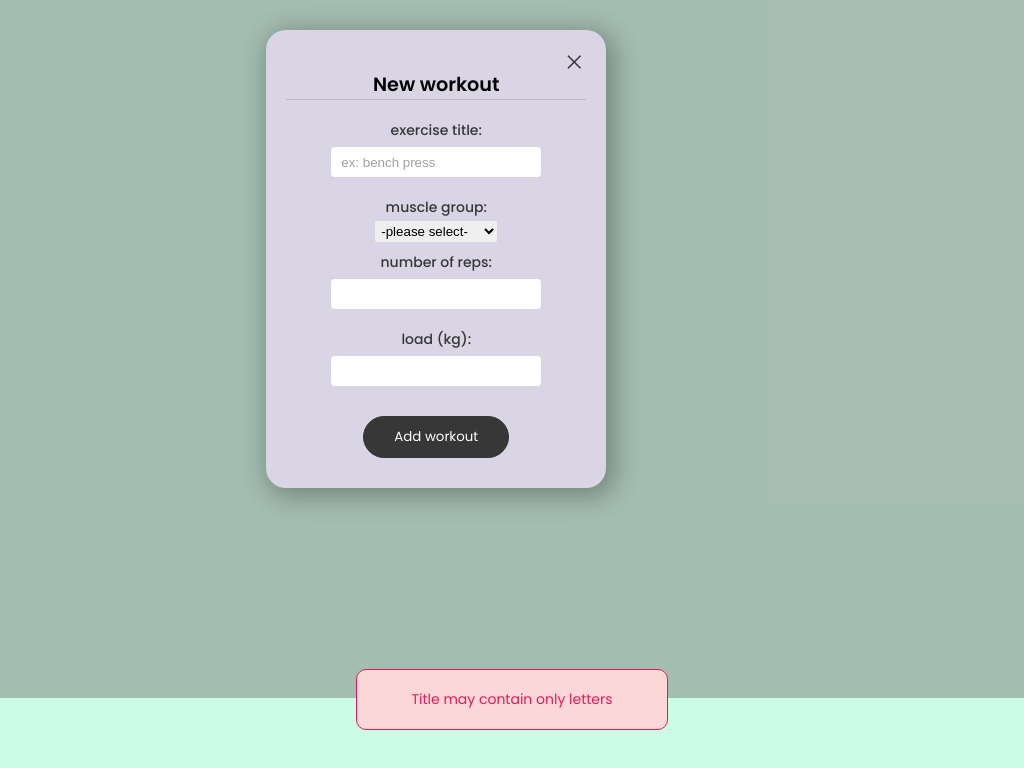
Test: <WorkoutForm/> › should signal input error if reps value is too large
Step 1. Type "arm curls" into the field with test id "title" → (436, 162), box [331,147,541,177]
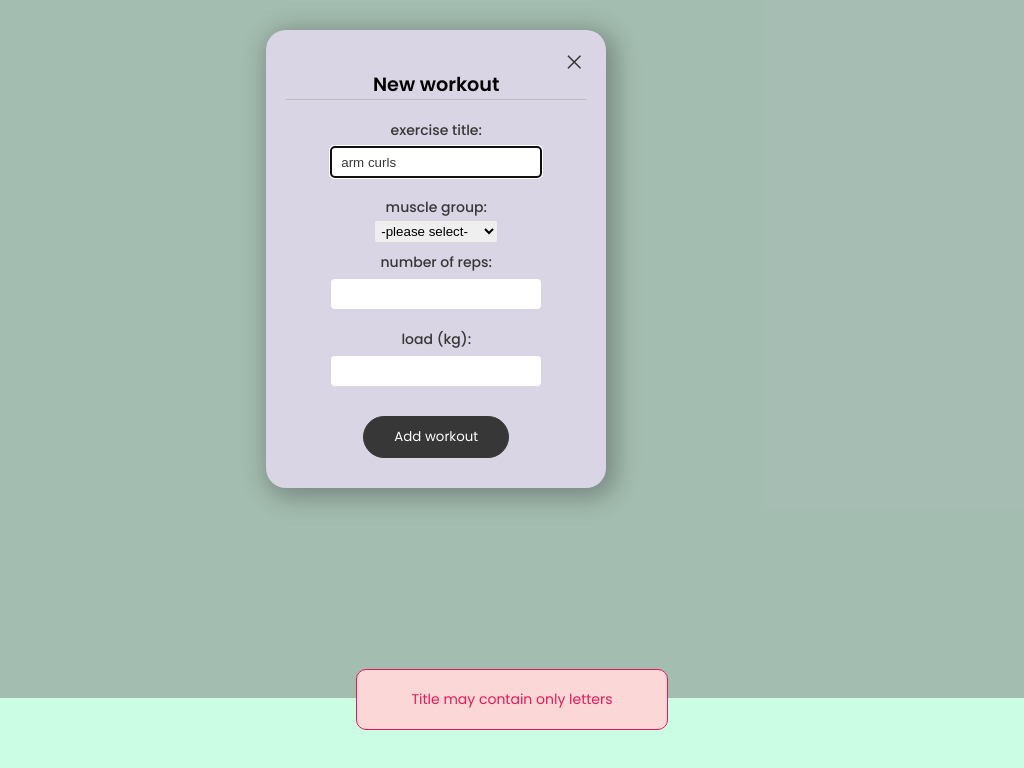
Step 2. Select "biceps" in the dropdown with test id "muscle_group" → (436, 232), box [375,221,497,242]
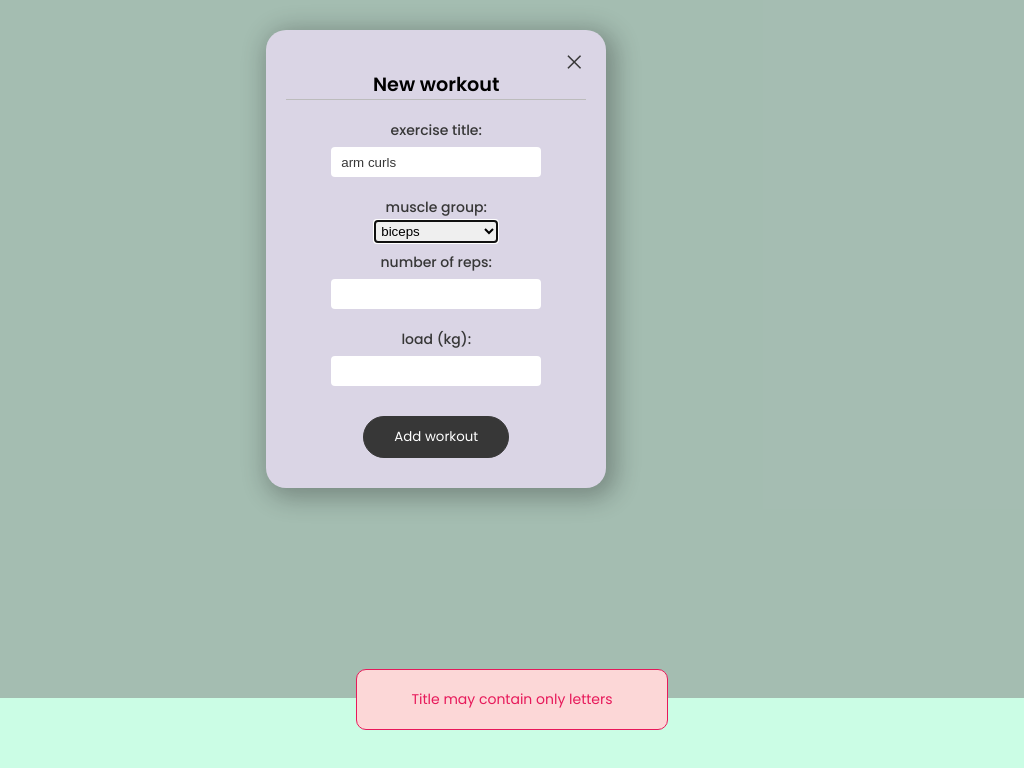
Step 3. Type "23848394829" into the number field with test id "reps" → (436, 294), box [331,279,541,309]
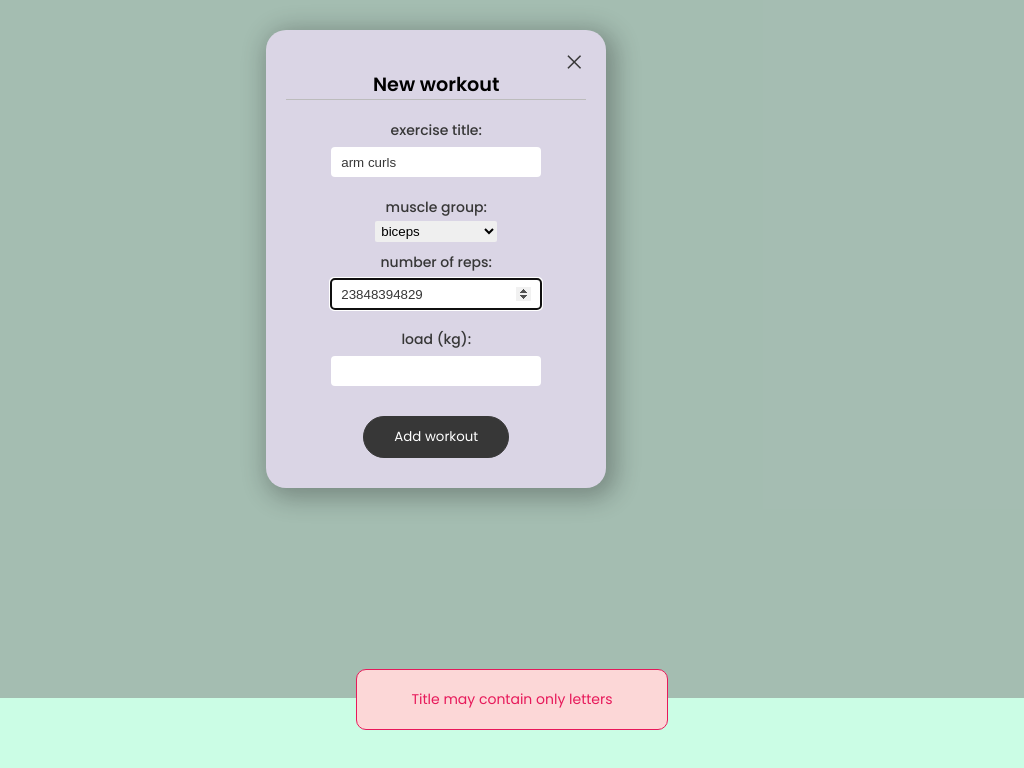
Step 4. Type "22" into the number field with test id "load" → (436, 371), box [331,356,541,386]
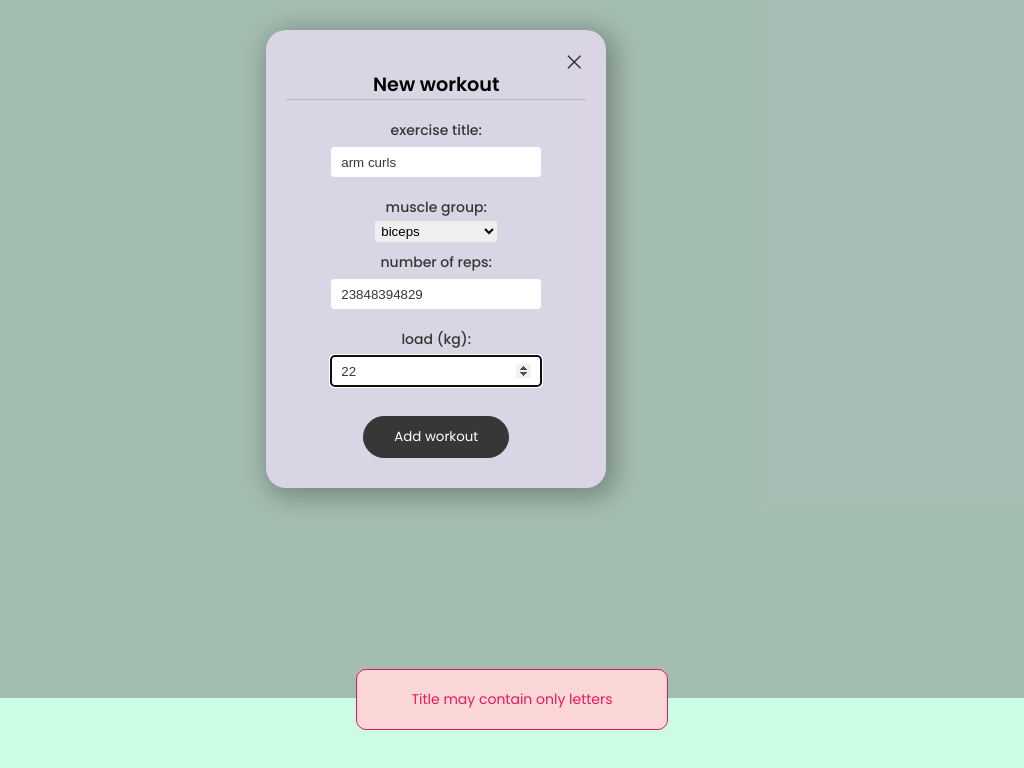
Step 5. Click the button "Add workout" → (436, 437), box [363,416,509,458]
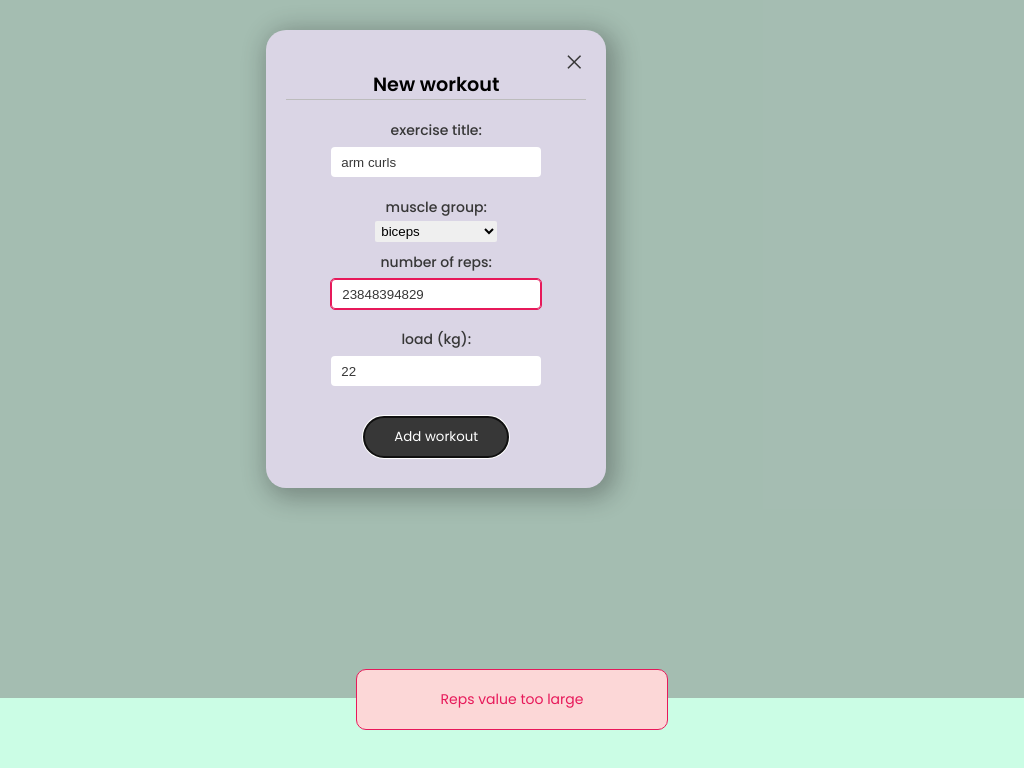
Expected: the message "Reps value too large" is shown, [356,669,668,730]
Expected: the message reads "Reps value too large", [441,689,584,709]
